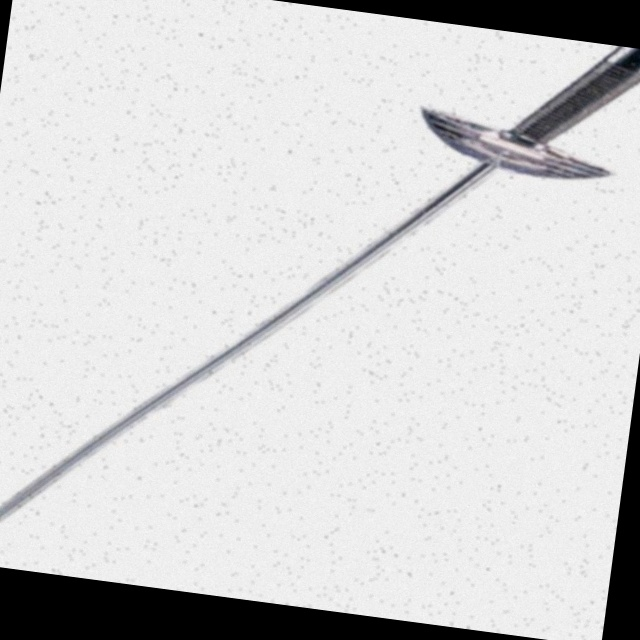Sharp-Object: (0, 40, 593, 637)
